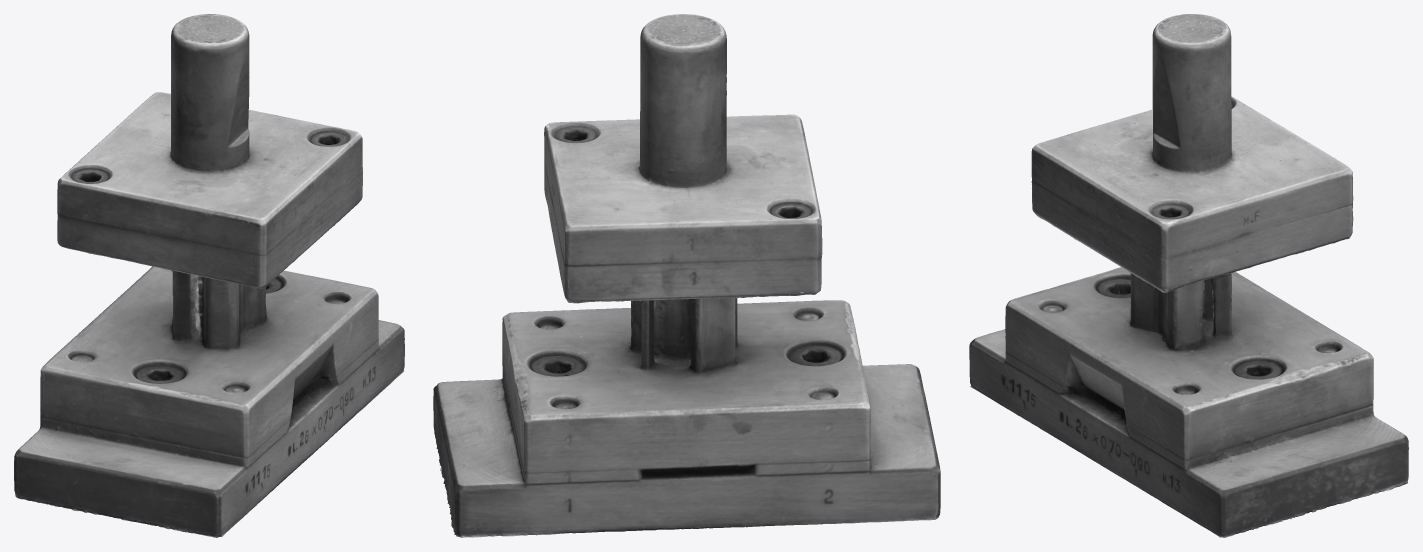
File: industrial_stamp_high.glb
3 views of the same model, side by side, from view 1: azimuth 30°, elevation 25°; view 2: azimuth 150°, elevation 25°; view 3: azimuth 270°, elevation 25° (orthographic). The views are drawn at different scales.
Parts seen in each view (by area): view 1: Object_4, Object_5, Object_6; view 2: Object_4, Object_5, Object_6; view 3: Object_5, Object_4, Object_6.
Part boxes in pixels (left/top/right/bottom): Object_4: left=14, top=14, right=404, bottom=537; Object_5: left=41, top=20, right=366, bottom=459; Object_6: left=14, top=14, right=404, bottom=536; Object_4: left=433, top=14, right=940, bottom=537; Object_5: left=454, top=14, right=906, bottom=517; Object_6: left=433, top=16, right=940, bottom=536; Object_5: left=1005, top=15, right=1389, bottom=462; Object_4: left=969, top=14, right=1407, bottom=537; Object_6: left=969, top=14, right=1408, bottom=535.
Size of the model in its own units: 3.45 by 3.15 by 3.08.
2 materials, 2 textured.
